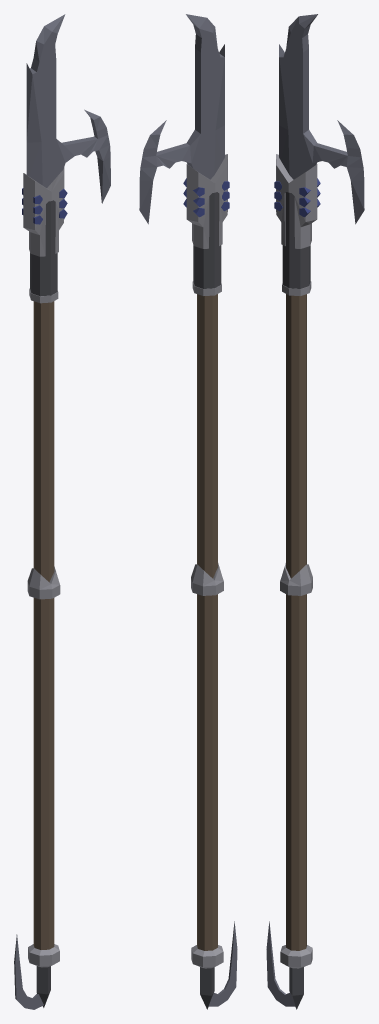
File: Lanca_A15.fbx
3 renders of one model, left to right at view 1: azimuth 30°, elevation 25°; view 2: azimuth 210°, elevation 25°; view 3: azimuth 330°, elevation 25°, orthographic.
Parts seen in each view (by area): view 1: polearm_15; view 2: polearm_15; view 3: polearm_15.
Part boxes in pixels (box(x1,y1,x2,y2)): polearm_15: box(14, 14, 110, 1009); polearm_15: box(139, 14, 237, 1009); polearm_15: box(266, 14, 364, 1009).
Bounding box in the file's own units: 21.22 × 208 × 6.44.
